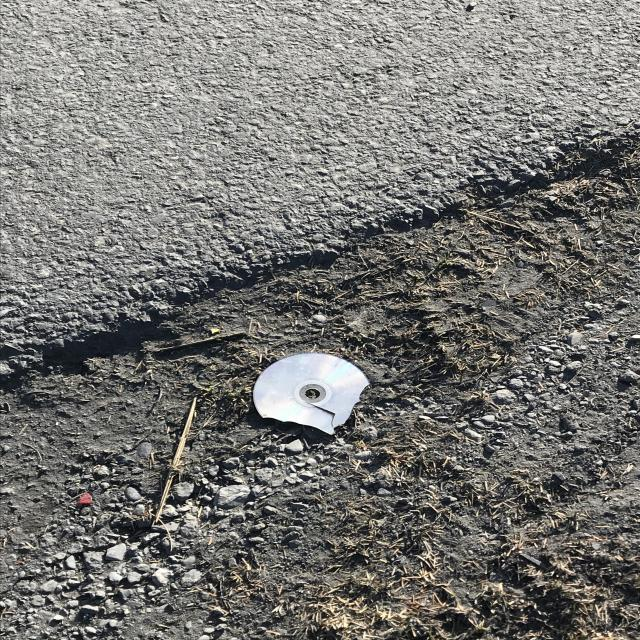litter: (236, 340, 392, 455)
